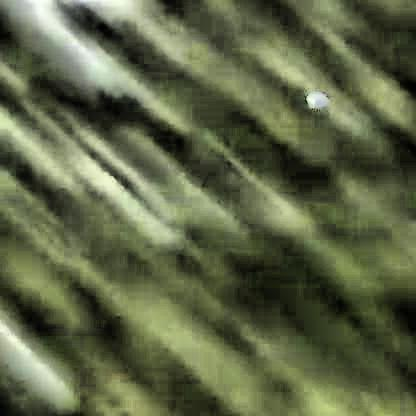golfball: (300, 93, 328, 112)
